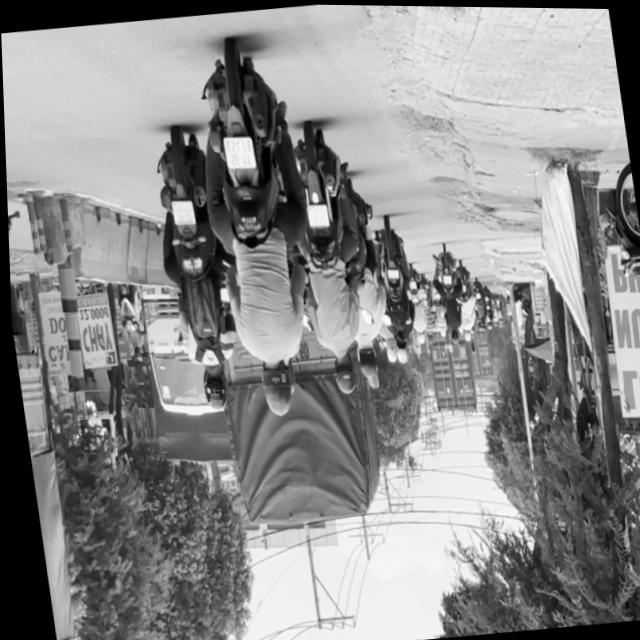helmet: (253, 359, 293, 418), (326, 349, 354, 395), (196, 366, 224, 412), (351, 342, 375, 381)
licenseplate: (182, 36, 329, 423), (140, 124, 241, 418), (276, 119, 380, 399), (325, 175, 393, 387)
nohelmet: (221, 133, 253, 168), (168, 198, 192, 224), (303, 201, 326, 227)
